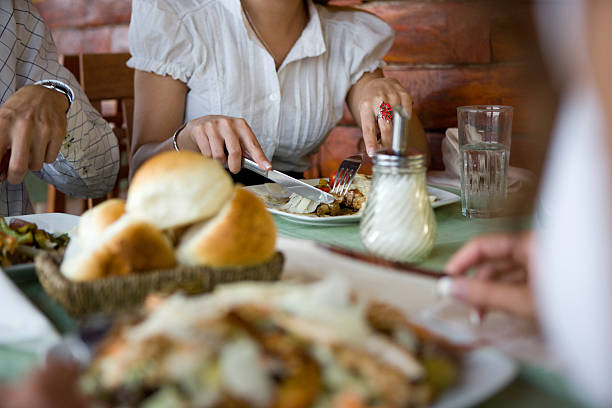knife: (243, 157, 335, 204)
